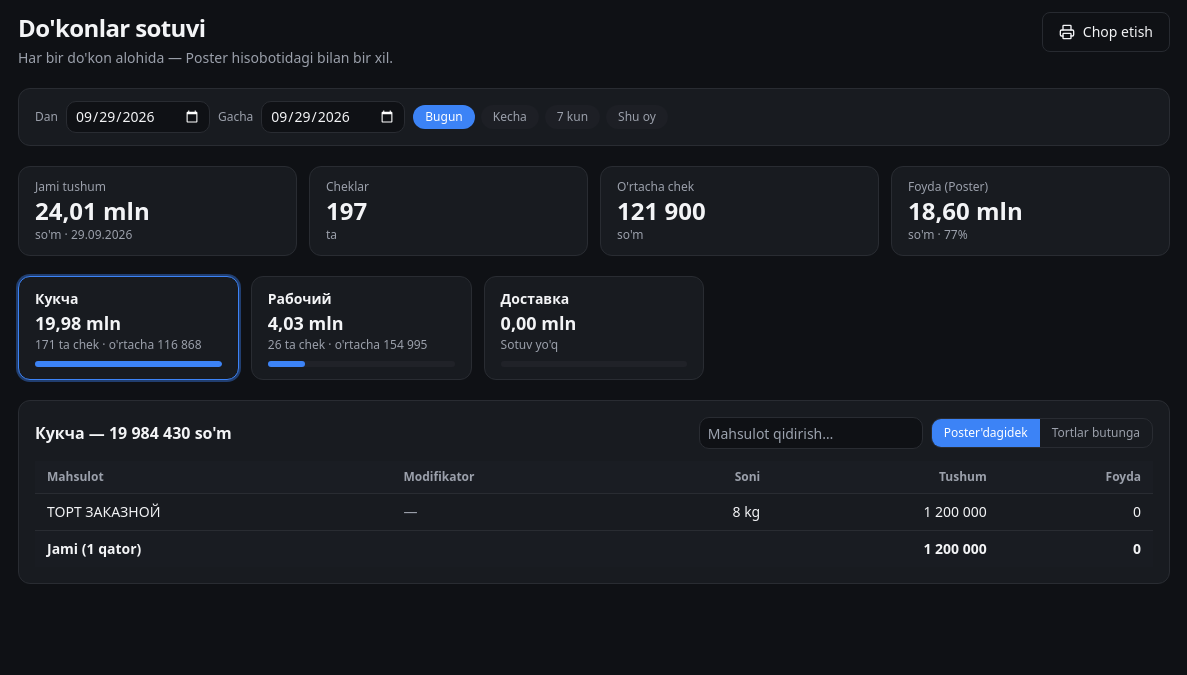
Test case: StoreSalesReportPage › shows cakes converted to whole cakes
expect the heading "Кукча — 19 984 430 so'm" is shown: met, box [35,421,232,445]
Click the button "Рабочий 4,03 mln 26 ta chek · o'rtacha 154 995": (361, 328) [251,276,472,380]
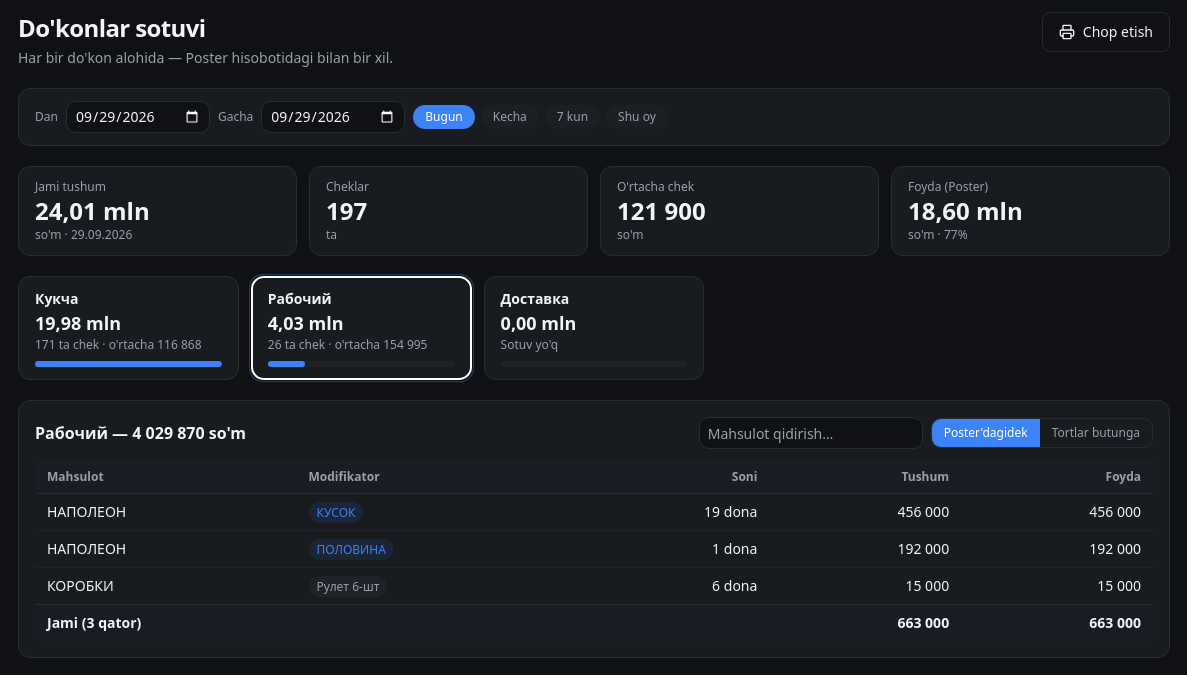
Click the button "Tortlar butunga": (1096, 433) [1040,419,1152,447]
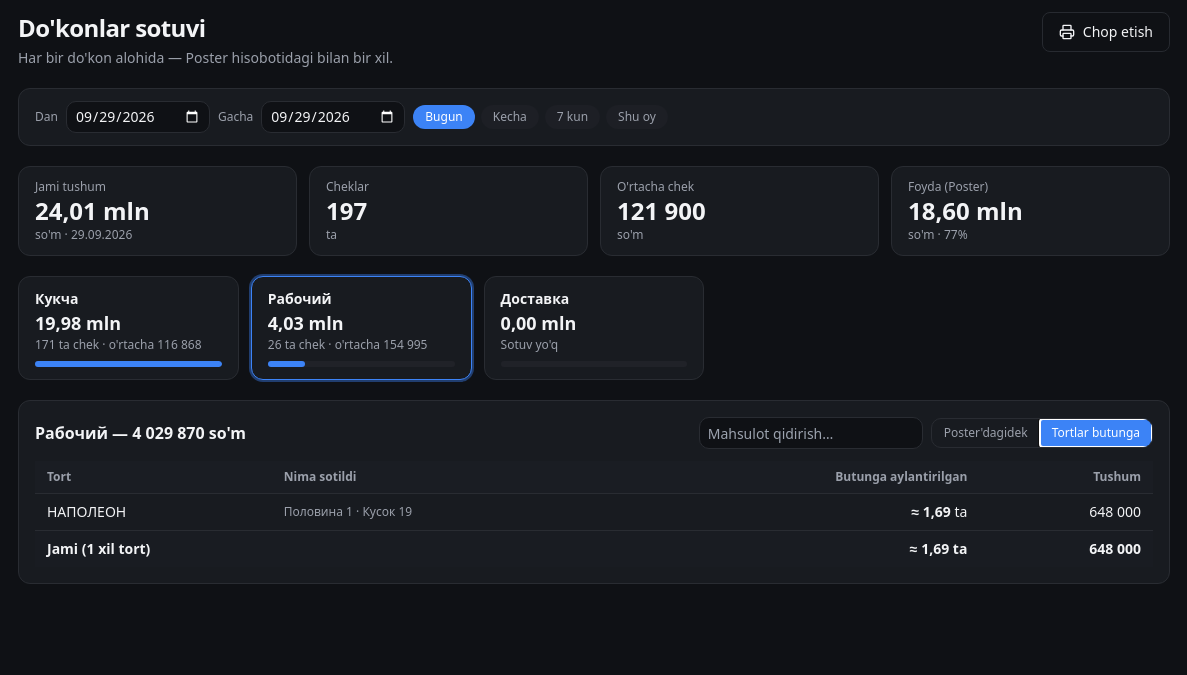
expect the text "Половина 1 · Кусок 19" is shown: met, box [272,494,621,530]
expect the text "КОРОБКИ" is gone: met
